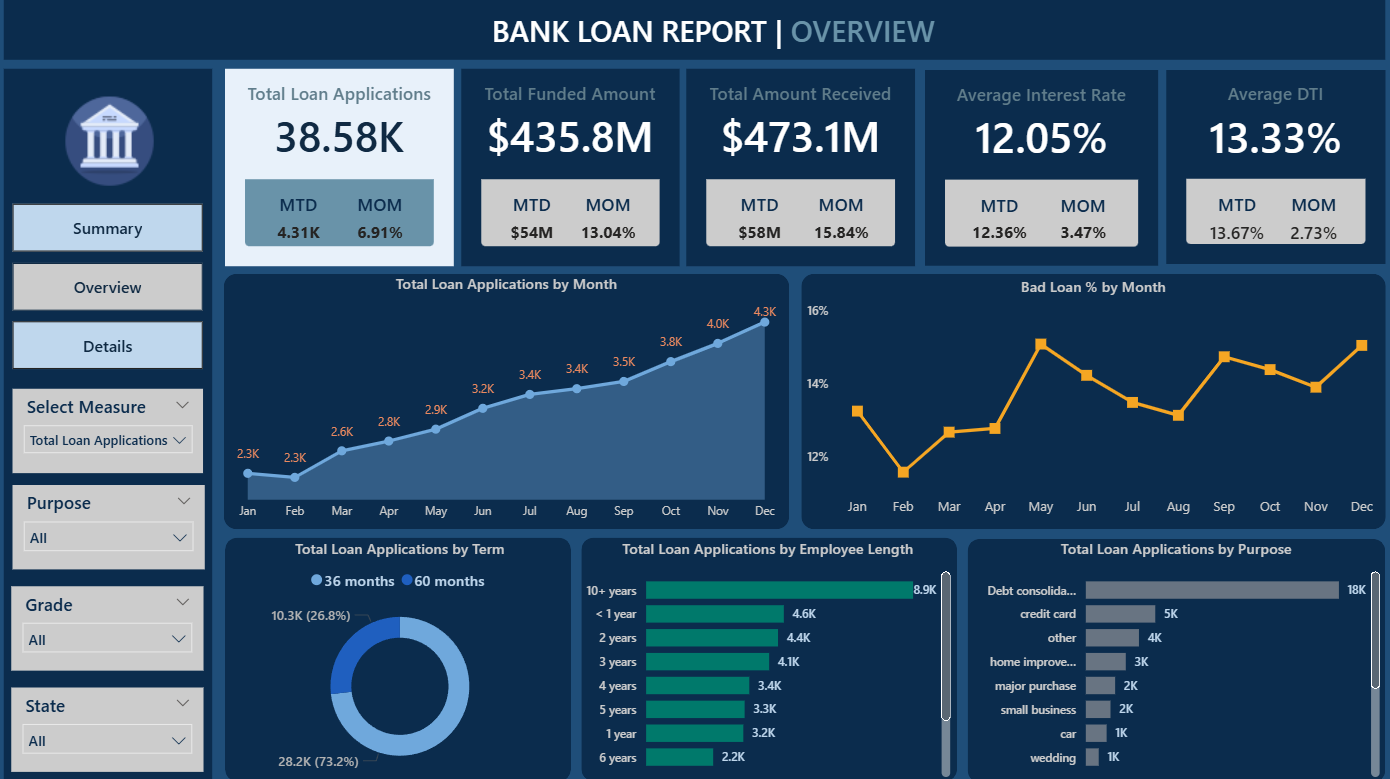

This screenshot's page, from the dashboard's own definition file:
{"tool":"powerbi","page":{"name":"Overview","canvas":[1280,720],"ordinal":1},"visuals":[{"type":"shape","box":[3.9,0,1270.6,55],"z":0},{"type":"shape","box":[3.9,63.3,191.7,656.7],"z":1000},{"type":"textbox","box":[434.1,4.5,443,50.1],"z":2000},{"type":"cardVisual","fields":{"Data":["bank_loan_data.Total Loan Applications"]},"box":[207.1,62.9,210,181.4],"z":3000},{"type":"cardVisual","fields":{"Data":["bank_loan_data.Total Funded Amount"]},"box":[423.8,63.1,200.8,181.5],"z":4000},{"type":"cardVisual","fields":{"Data":["bank_loan_data.Total Amount Received"]},"box":[631.5,63.1,210,181.5],"z":5000},{"type":"cardVisual","fields":{"Data":["bank_loan_data.Average Interest Rate"]},"box":[850,63.9,214.4,180],"z":6000},{"type":"shape","box":[206.2,251.2,520,235],"z":7000},{"type":"cardVisual","fields":{"Data":["bank_loan_data.Avg DTI"]},"box":[1072.9,64.3,201.4,178.6],"z":8000},{"type":"slicer","fields":{"Values":["bank_loan_data.address_state"]},"box":[10,632.1,176.7,77.8],"z":9000},{"type":"slicer","fields":{"Values":["bank_loan_data.grade"]},"box":[10,538.8,176.7,77.8],"z":10000},{"type":"slicer","fields":{"Values":["bank_loan_data.purpose"]},"box":[11.1,445.5,176.7,77.8],"z":11000},{"type":"shape","box":[736.2,251.2,537.5,235],"z":12000},{"type":"lineChart","fields":{"Y":["bank_loan_data.Total Loan Applications"],"Category":["Date Table.Month"]},"box":[206.2,251.2,520,235],"z":13000},{"type":"slicer","fields":{"Values":["Select Measure.Select Measure"]},"box":[11.2,357.3,175.4,77.7],"z":14000},{"type":"shape","box":[206.4,494.5,318.2,224.5],"z":16000},{"type":"shape","box":[534.4,494.3,345.7,224.3],"z":17000},{"type":"donutChart","fields":{"Y":["bank_loan_data.Total Loan Applications"],"Category":["bank_loan_data.term"]},"box":[211.4,495.7,312.9,224.3],"z":18000},{"type":"barChart","fields":{"Y":["bank_loan_data.Total Loan Applications"],"Category":["bank_loan_data.emp_length"]},"box":[532.9,495.7,345.7,224.3],"z":19000},{"type":"shape","box":[890,495.7,384.3,224.3],"z":20000},{"type":"barChart","fields":{"Y":["bank_loan_data.Total Loan Applications"],"Category":["bank_loan_data.purpose"]},"box":[890,495.7,384.3,224.3],"z":21000},{"type":"image","box":[47.1,85.7,107.1,87.1],"z":21001},{"type":"pageNavigator","box":[11.4,187.1,175.7,154.3],"z":21002},{"type":"lineChart","fields":{"Category":["Date Table.Month"],"Y":["bank_loan_data.Bad Loan %"]},"box":[736.2,253.8,537.5,230],"z":21004}]}

Visuals, with their boxes on the page's 1280x720 design canvas (x1, y1, x2, y2). These are canvas units, not pixel positions in the 1390x779 screenshot, which may show the page scaled, cropped or inside an application window:
shape: 4/0/1274/55
shape: 4/63/196/720
textbox: 434/4/877/55
cardVisual - bank_loan_data.Total Loan Applications: 207/63/417/244
cardVisual - bank_loan_data.Total Funded Amount: 424/63/625/245
cardVisual - bank_loan_data.Total Amount Received: 632/63/842/245
cardVisual - bank_loan_data.Average Interest Rate: 850/64/1064/244
shape: 206/251/726/486
cardVisual - bank_loan_data.Avg DTI: 1073/64/1274/243
slicer - bank_loan_data.address_state: 10/632/187/710
slicer - bank_loan_data.grade: 10/539/187/617
slicer - bank_loan_data.purpose: 11/446/188/523
shape: 736/251/1274/486
lineChart - bank_loan_data.Total Loan Applications x Date Table.Month: 206/251/726/486
slicer - Select Measure.Select Measure: 11/357/187/435
shape: 206/494/525/719
shape: 534/494/880/719
donutChart - bank_loan_data.Total Loan Applications x bank_loan_data.term: 211/496/524/720
barChart - bank_loan_data.Total Loan Applications x bank_loan_data.emp_length: 533/496/879/720
shape: 890/496/1274/720
barChart - bank_loan_data.Total Loan Applications x bank_loan_data.purpose: 890/496/1274/720
image: 47/86/154/173
pageNavigator: 11/187/187/341
lineChart - Date Table.Month x bank_loan_data.Bad Loan %: 736/254/1274/484
